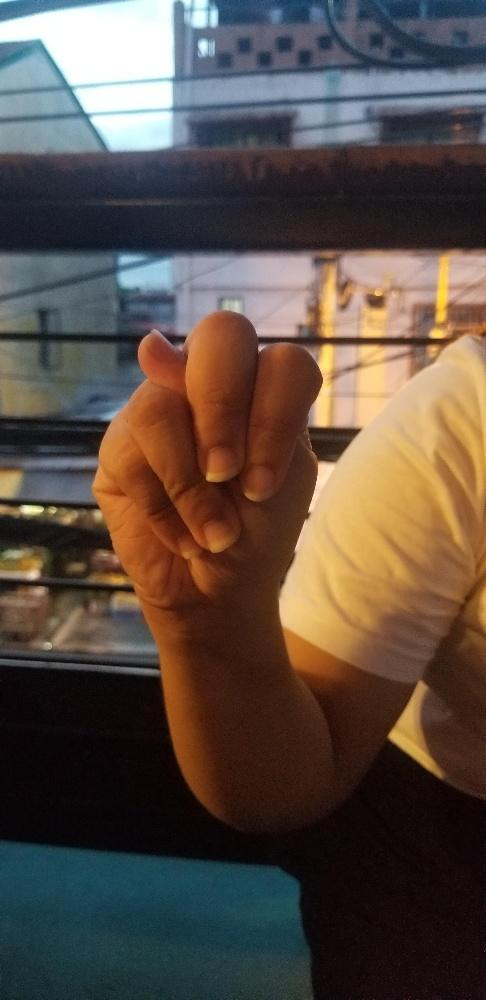n: (90, 307, 328, 620)
